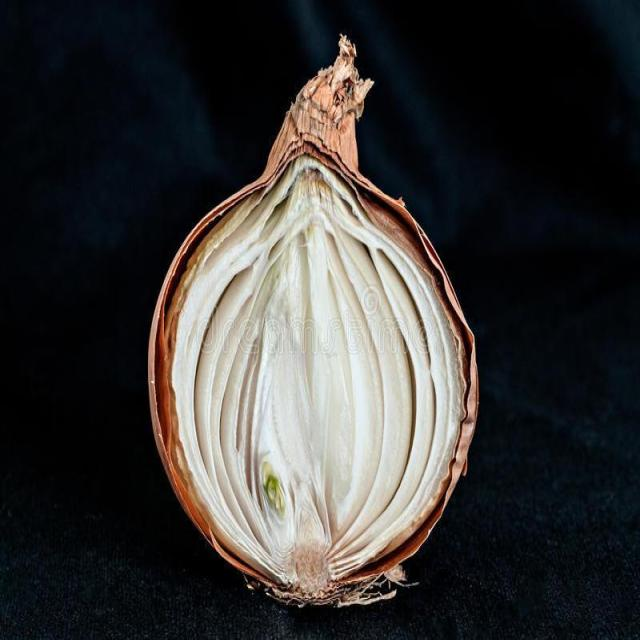Onion: (143, 30, 478, 606)
